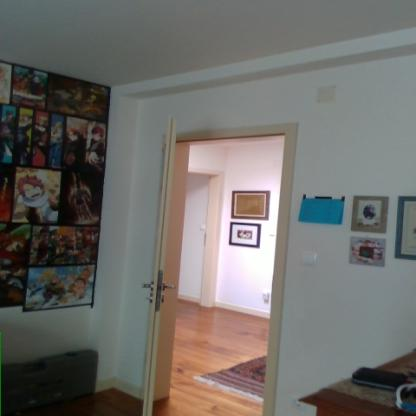open: (127, 115, 310, 415)
